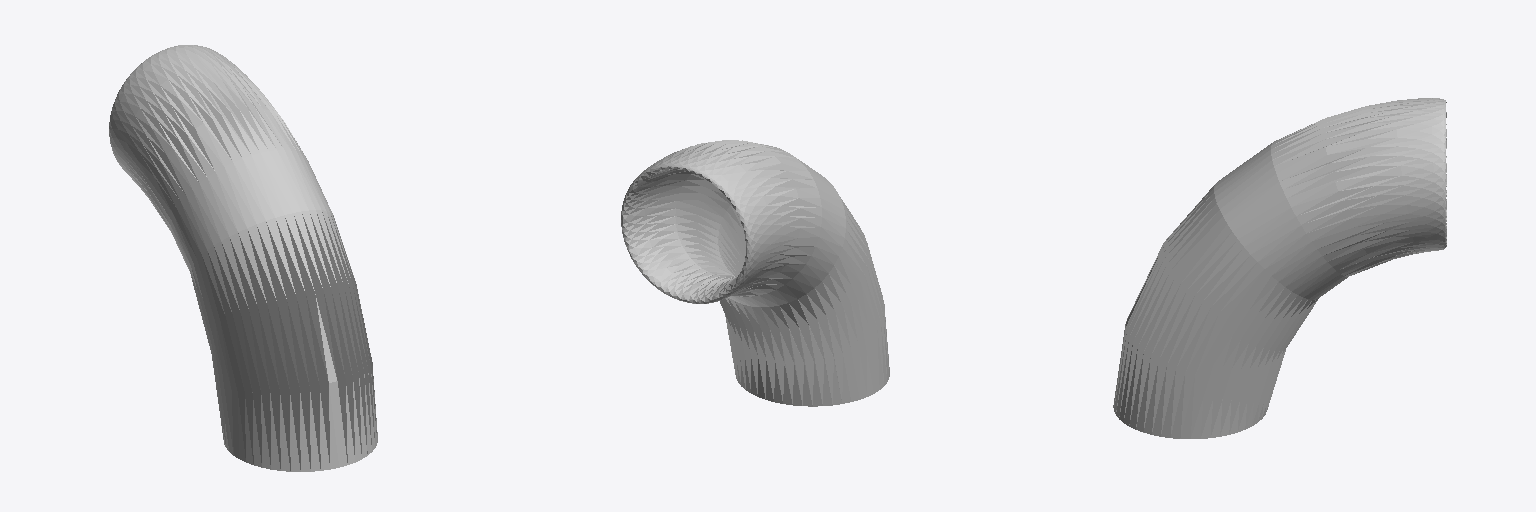
Rendered from Model_PipeCurve_90.obj.
3 renders of one model, left to right at view 1: azimuth 30°, elevation 25°; view 2: azimuth 150°, elevation 25°; view 3: azimuth 270°, elevation 25°, orthographic.
Parts seen in each view (by area): view 1: Pipe2; view 2: Pipe2; view 3: Pipe2.
Part boxes in pixels (x1,y1,x2,y2): Pipe2: (109, 45, 377, 471); Pipe2: (621, 140, 889, 406); Pipe2: (1113, 98, 1446, 438).
Bounding box in the file's own units: 1.91 × 4.11 × 4.12.